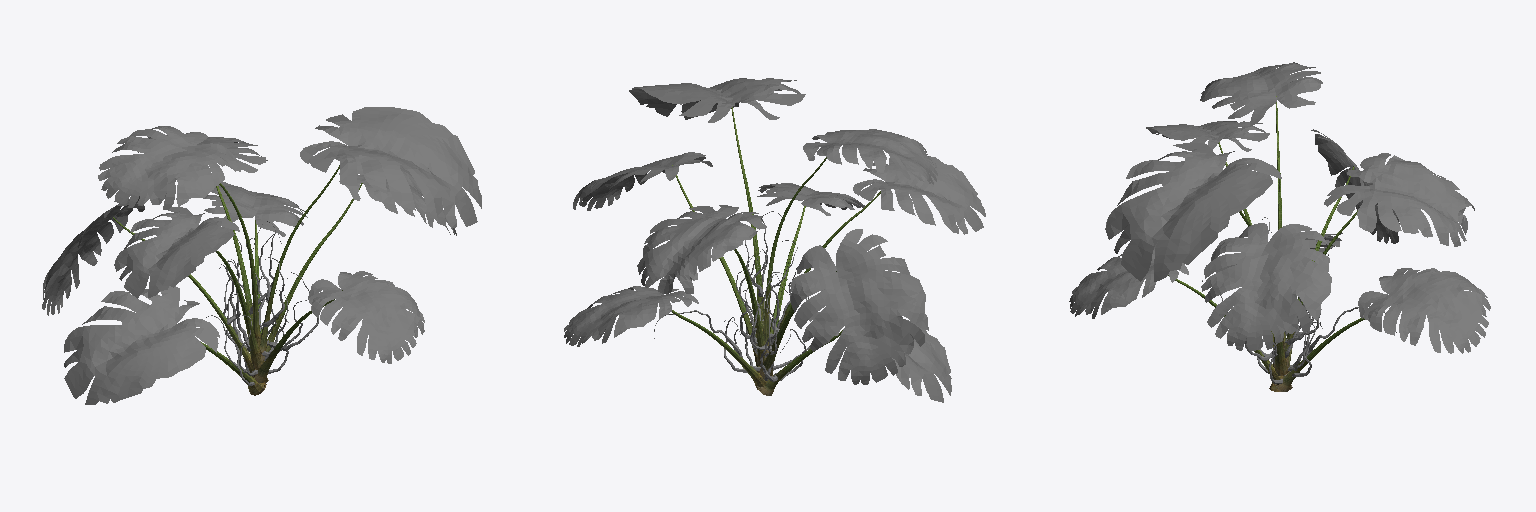
3 views of the same model, side by side, from view 1: azimuth 30°, elevation 25°; view 2: azimuth 150°, elevation 25°; view 3: azimuth 270°, elevation 25° (orthographic).
Parts seen in each view (by area): view 1: Monstera_plant.189, Monstera_plant.182, Monstera_plant.190, Monstera_plant.184, Monstera_plant.187, Monstera_plant.185, Monstera_plant.183, Monstera_plant.186, Monstera_plant.188, Monstera_plant.176, Monstera_plant.169, Monstera_plant.180 (+3 smaller); view 2: Monstera_plant.185, Monstera_plant.188, Monstera_plant.187, Monstera_plant.189, Monstera_plant.190, Monstera_plant.183, Monstera_plant.186, Monstera_plant.182, Monstera_plant.184, Monstera_plant.176, Monstera_plant.180, Monstera_plant.156 (+1 smaller); view 3: Monstera_plant.189, Monstera_plant.186, Monstera_plant.188, Monstera_plant.183, Monstera_plant.190, Monstera_plant.184, Monstera_plant.187, Monstera_plant.185, Monstera_plant.156.
Boxes of the visible parts, x1,y1,x2,y2 form: Monstera_plant.189: [300, 107, 481, 228]; Monstera_plant.182: [64, 286, 219, 404]; Monstera_plant.190: [98, 126, 237, 209]; Monstera_plant.184: [308, 271, 424, 363]; Monstera_plant.187: [114, 207, 239, 298]; Monstera_plant.185: [42, 196, 144, 315]; Monstera_plant.183: [203, 182, 307, 236]; Monstera_plant.186: [335, 155, 456, 235]; Monstera_plant.188: [138, 135, 267, 172]; Monstera_plant.176: [260, 165, 339, 360]; Monstera_plant.169: [216, 251, 263, 369]; Monstera_plant.180: [219, 183, 262, 355]; Monstera_plant.185: [790, 229, 928, 384]; Monstera_plant.188: [637, 205, 766, 293]; Monstera_plant.187: [853, 156, 985, 234]; Monstera_plant.189: [629, 78, 805, 122]; Monstera_plant.190: [803, 129, 937, 184]; Monstera_plant.183: [564, 286, 698, 346]; Monstera_plant.186: [573, 152, 712, 210]; Monstera_plant.182: [809, 312, 951, 402]; Monstera_plant.184: [757, 183, 864, 215]; Monstera_plant.176: [731, 107, 764, 330]; Monstera_plant.180: [763, 157, 826, 352]; Monstera_plant.156: [672, 310, 766, 389]; Monstera_plant.189: [1105, 143, 1281, 281]; Monstera_plant.186: [1201, 223, 1331, 350]; Monstera_plant.188: [1324, 153, 1474, 246]; Monstera_plant.183: [1358, 268, 1490, 353]; Monstera_plant.190: [1200, 62, 1322, 126]; Monstera_plant.184: [1069, 247, 1188, 318]; Monstera_plant.187: [1146, 121, 1269, 151]; Monstera_plant.185: [1311, 129, 1399, 243]; Monstera_plant.156: [1275, 318, 1364, 391].
Bounding box in the file's own units: 101 × 71.76 × 99.23.
Materials: 3 (1 with a texture image).